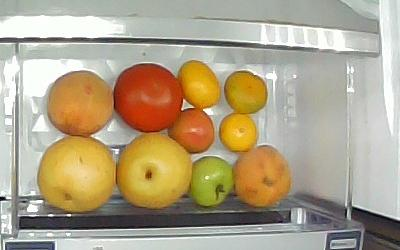peach: (47, 70, 115, 137), (234, 146, 293, 208)
pear: (38, 136, 117, 213), (118, 132, 192, 209)
tangerine: (177, 61, 221, 109), (224, 71, 271, 114), (218, 114, 261, 150)
tomato: (115, 64, 184, 132), (191, 156, 235, 206), (169, 109, 214, 152)
